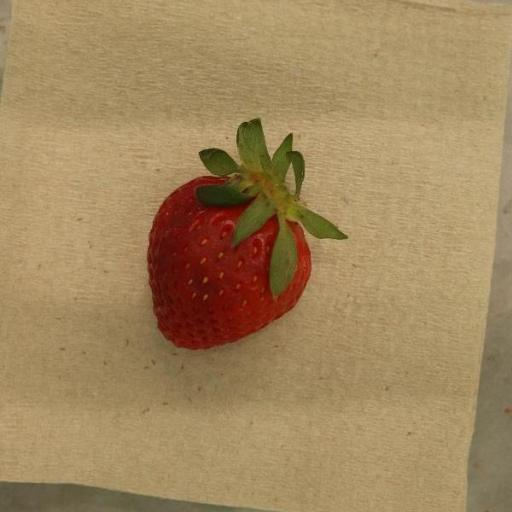Strawberry: (147, 119, 348, 351)
